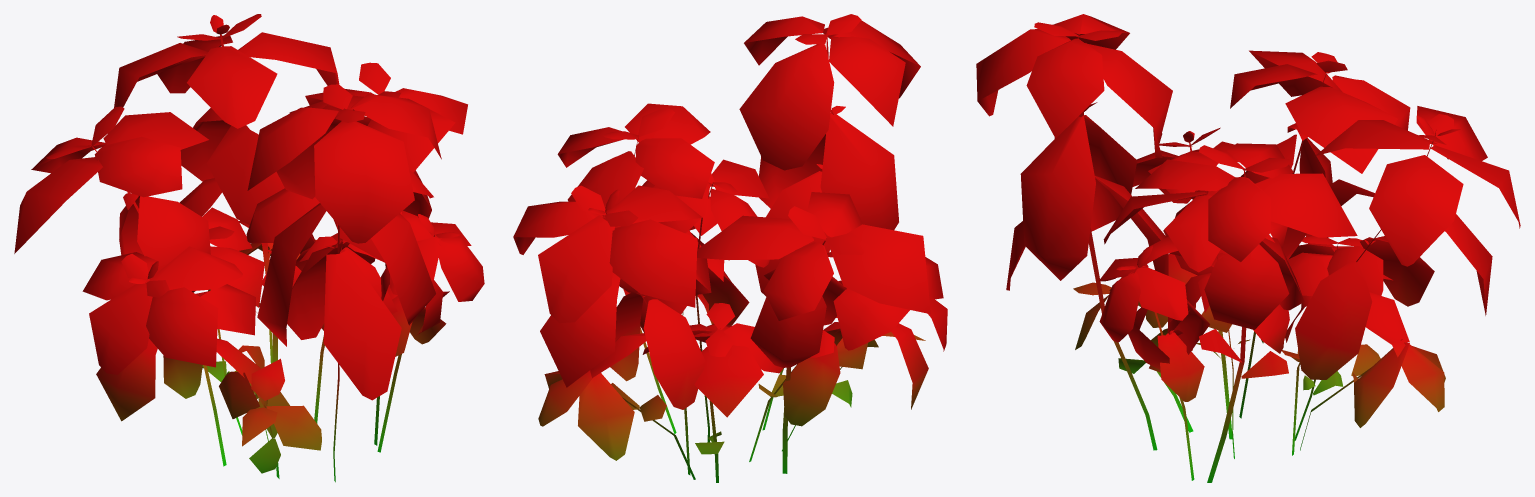
The model's file is Basil_LOD4_Var2_vgpochzia.fbx.
3 views of the same model, side by side, from view 1: azimuth 30°, elevation 25°; view 2: azimuth 150°, elevation 25°; view 3: azimuth 270°, elevation 25° (orthographic). The views are drawn at different scales.
Visible parts, largest first — view 1: _jz8a_Var2_LOD4; view 2: _jz8a_Var2_LOD4; view 3: _jz8a_Var2_LOD4.
Part boxes in pixels (x1,y1,x2,y2): _jz8a_Var2_LOD4: [14, 14, 484, 482]; _jz8a_Var2_LOD4: [513, 14, 947, 482]; _jz8a_Var2_LOD4: [976, 14, 1520, 482].
Size of the model in its own units: 30.06 by 28.41 by 34.2.
